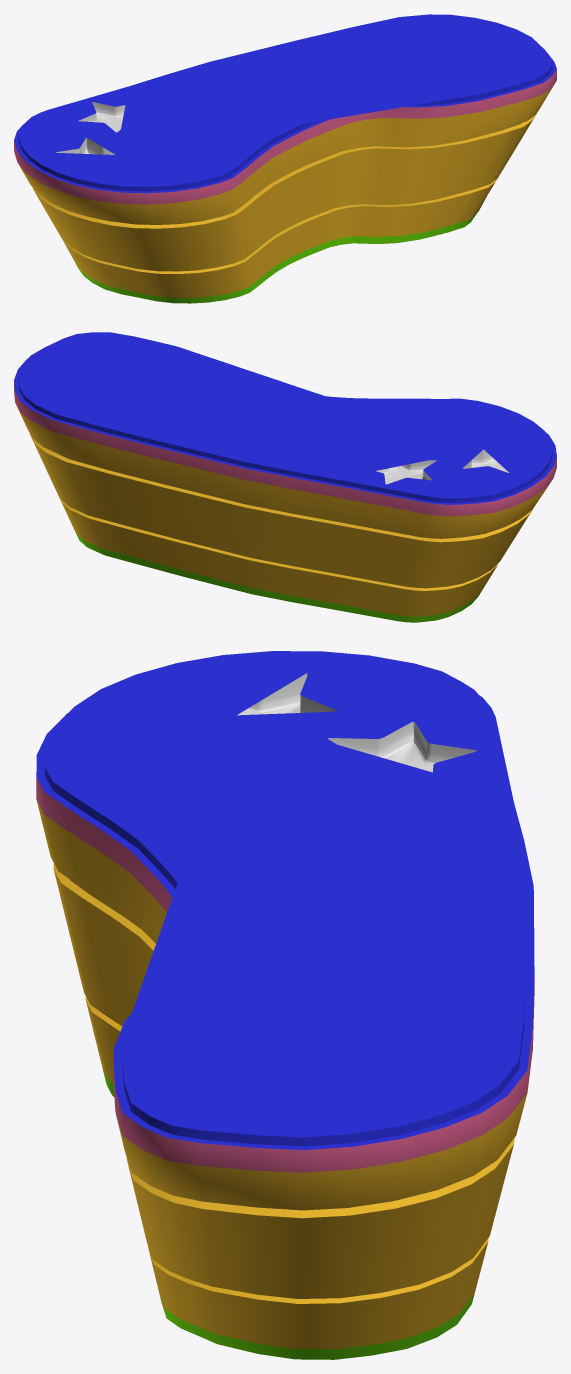
File: table_large_boolean.fbx
The picture shows the model from 3 angles, top to bottom: view 1: azimuth 30°, elevation 25°; view 2: azimuth 150°, elevation 25°; view 3: azimuth 270°, elevation 25°; orthographic projection. The views are drawn at different scales.
Parts seen in each view (by area): view 1: BooleanStar; view 2: BooleanStar; view 3: BooleanStar.
Part boxes in pixels (bbox=[...]): BooleanStar: bbox=[14, 14, 556, 303]; BooleanStar: bbox=[14, 332, 556, 622]; BooleanStar: bbox=[36, 651, 534, 1359].
Bounding box in the file's own units: 646 × 172 × 276.
